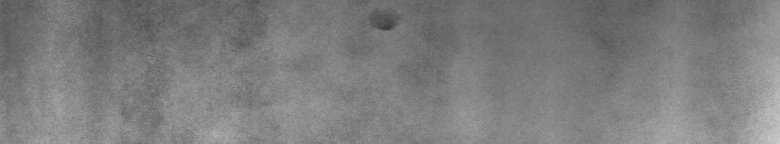fi: (374, 24, 400, 36)
